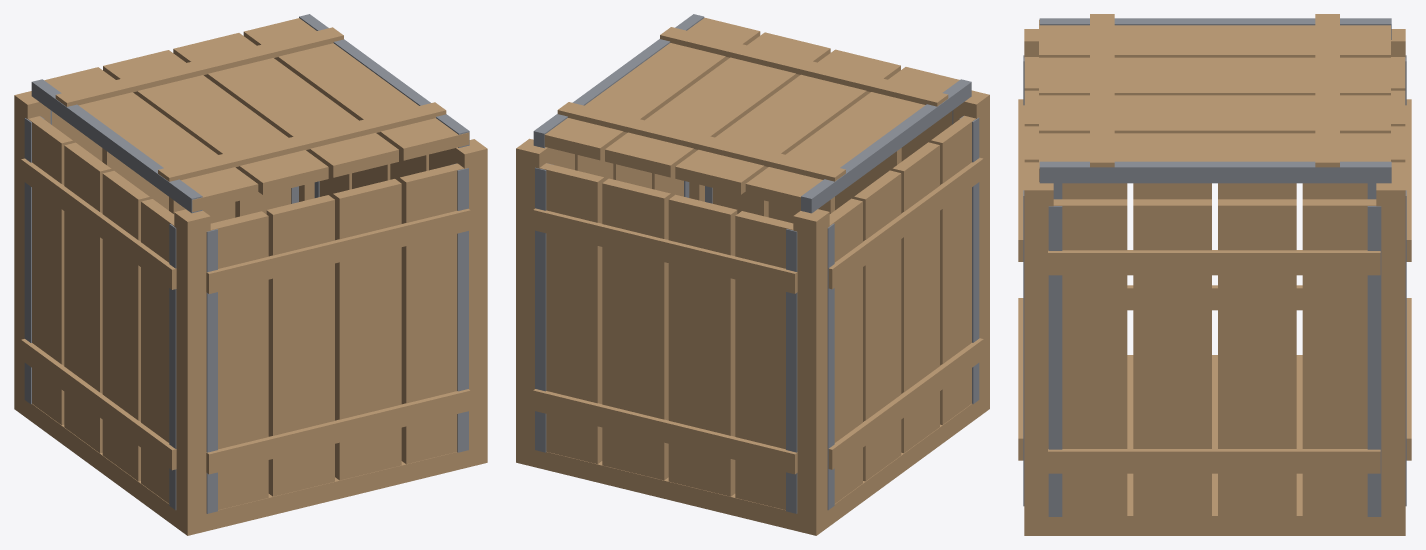
File: ob_crate.glb
3 renders of one model, left to right at view 1: azimuth 30°, elevation 25°; view 2: azimuth 150°, elevation 25°; view 3: azimuth 270°, elevation 25°, orthographic. The views are drawn at different scales.
Parts seen in each view (by area): view 1: base/timber, panelFront/iron; view 2: base/timber, panelFront/iron; view 3: base/timber, panelFront/iron.
Part boxes in pixels (x1,y1,x2,y2): base/timber: [14, 18, 487, 535]; panelFront/iron: [24, 14, 469, 513]; base/timber: [516, 17, 989, 535]; panelFront/iron: [533, 14, 979, 513]; base/timber: [1018, 14, 1411, 535]; panelFront/iron: [1023, 18, 1406, 516].
Size of the model in its own units: 0.804 by 0.828 by 0.804.
